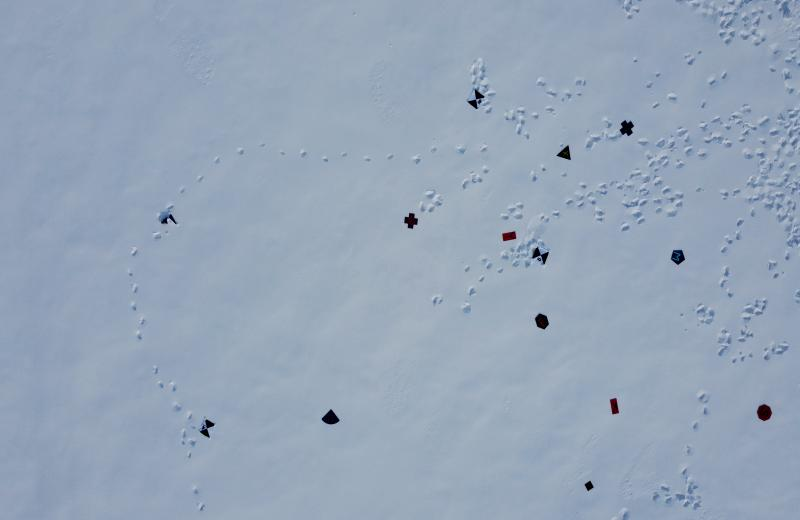Cross: (404, 211, 419, 230), (620, 120, 634, 137)
Hexagon: (536, 313, 550, 329)
Octagon: (756, 404, 773, 421)
Pentagon: (670, 250, 686, 266)
Quarter Circle: (321, 408, 340, 425)
Rectangle: (609, 396, 620, 416), (501, 230, 518, 242)
Square: (584, 480, 594, 491)
Triangle: (556, 144, 572, 161)
